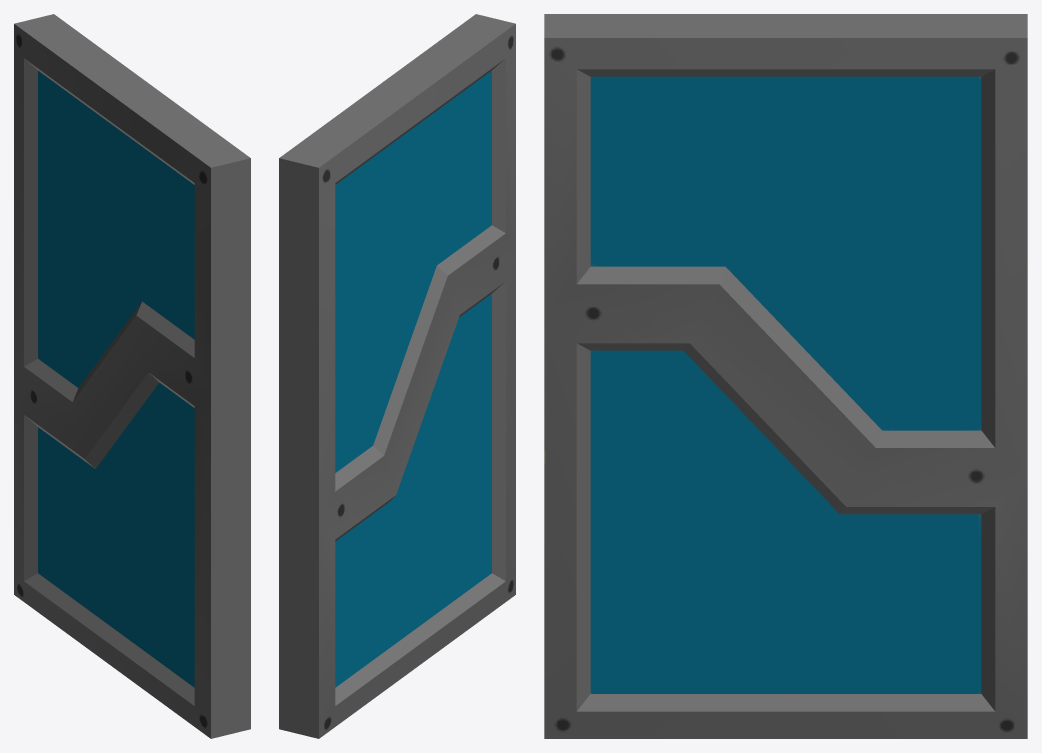
The model's file is SM_B2_Wall1_SM_B2_D.fbx.
The picture shows the model from 3 angles, left to right: view 1: azimuth 30°, elevation 25°; view 2: azimuth 150°, elevation 25°; view 3: azimuth 270°, elevation 25°; orthographic projection. The views are drawn at different scales.
Visible parts, largest first — view 1: SM_B2_Wall1_SM_B2_D; view 2: SM_B2_Wall1_SM_B2_D; view 3: SM_B2_Wall1_SM_B2_D.
Boxes of the visible parts, box(x1,y1,x2,y2) form: SM_B2_Wall1_SM_B2_D: box(14, 14, 250, 738); SM_B2_Wall1_SM_B2_D: box(279, 14, 515, 738); SM_B2_Wall1_SM_B2_D: box(544, 14, 1027, 738).
Bounding box in the file's own units: 24.68 × 181 × 290.
Materials: 1 (1 with a texture image).
